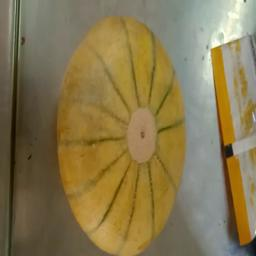Melon Semifresh: (49, 17, 192, 256)
